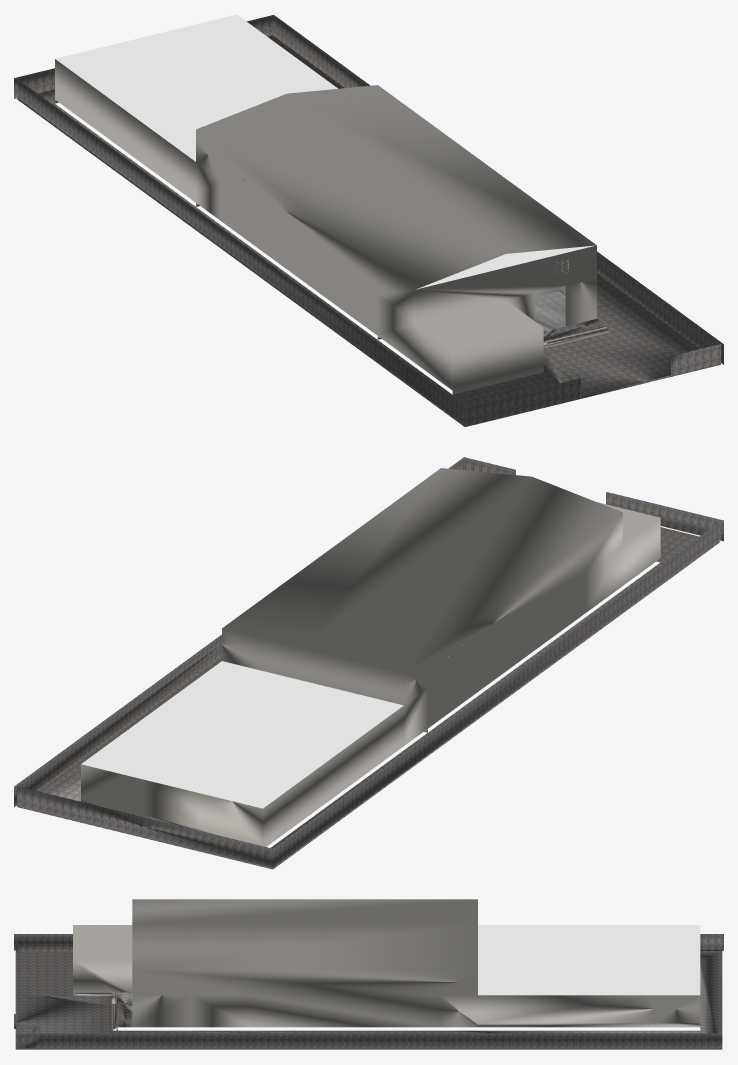
3 views of the same model, one above another, from view 1: azimuth 30°, elevation 25°; view 2: azimuth 150°, elevation 25°; view 3: azimuth 270°, elevation 25° (orthographic). The views are drawn at different scales.
Parts seen in each view (by area): view 1: Model; view 2: Model; view 3: Model.
Part boxes in pixels (x1,y1,x2,y2): Model: [14, 14, 723, 426]; Model: [14, 457, 723, 869]; Model: [14, 899, 723, 1049].
Size of the model in its own units: 1200 by 402 by 3600.
17 materials, 3 textured.
